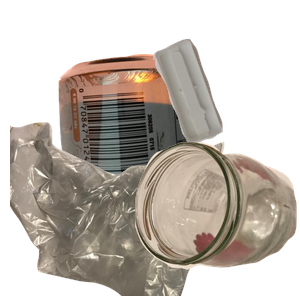glass: (132, 139, 300, 300)
metal: (56, 52, 242, 232)
plastic: (150, 36, 300, 173)
trash: (10, 120, 231, 300)
